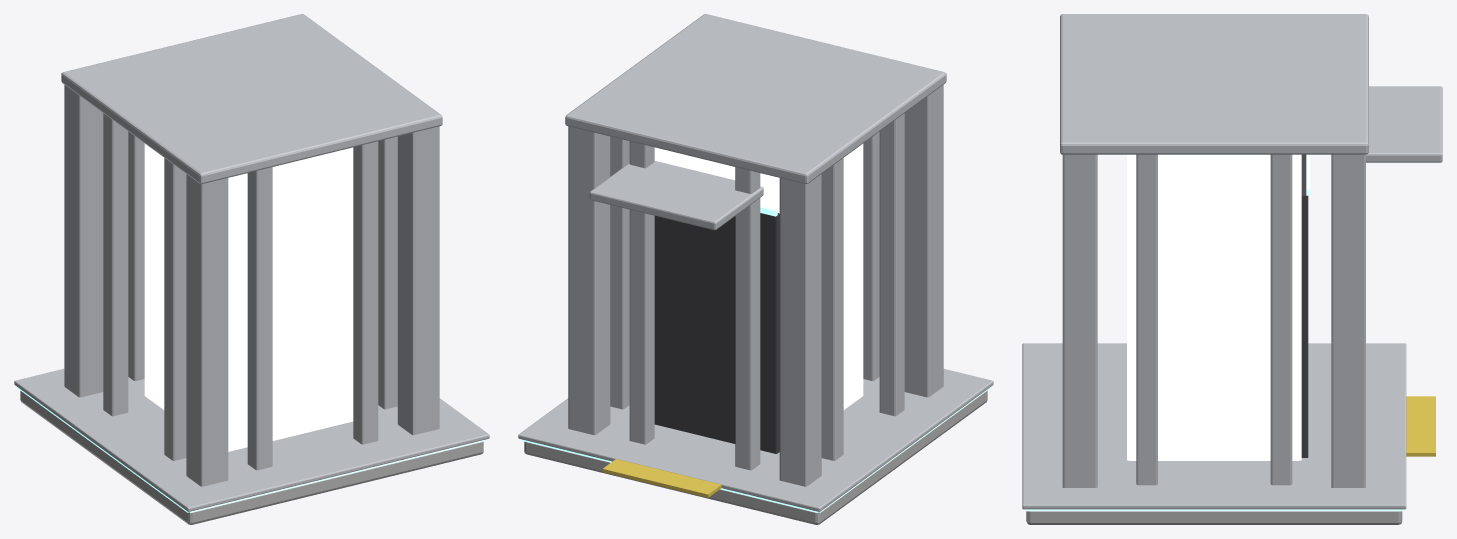
Rendered from base_2x2_office.glb.
3 renders of one model, left to right at view 1: azimuth 30°, elevation 25°; view 2: azimuth 150°, elevation 25°; view 3: azimuth 270°, elevation 25°, orthographic. The views are drawn at different scales.
Visible parts, largest first — view 1: int_columns, ext_ledge, ext_lobby, int_slab_edge, int_slab, ext_base_glow; view 2: int_columns, ext_ledge, ext_entrance, int_slab_edge, ext_lobby, ext_canopy, int_slab, ext_hazard, ext_base_glow; view 3: ext_ledge, ext_lobby, int_columns, int_slab_edge, ext_canopy, int_slab, ext_entrance, ext_hazard, ext_base_glow.
Boxes of the visible parts, box(x1,y1,x2,y2) form: int_columns: box(64, 85, 439, 486); ext_ledge: box(61, 14, 442, 184); ext_lobby: box(144, 143, 353, 451); int_slab_edge: box(14, 369, 489, 511); int_slab: box(20, 390, 483, 524); ext_base_glow: box(16, 387, 486, 512); int_columns: box(568, 85, 943, 486); ext_ledge: box(565, 14, 946, 184); ext_entrance: box(654, 213, 779, 453); int_slab_edge: box(518, 369, 993, 511); ext_lobby: box(654, 143, 863, 409); ext_canopy: box(589, 161, 763, 230); int_slab: box(524, 390, 987, 524); ext_hazard: box(602, 459, 721, 497); ext_base_glow: box(521, 387, 991, 512); ext_ledge: box(1060, 14, 1368, 154); ext_lobby: box(1127, 154, 1301, 460); int_columns: box(1062, 154, 1365, 487); int_slab_edge: box(1022, 343, 1406, 509); ext_canopy: box(1366, 86, 1442, 162); int_slab: box(1026, 511, 1402, 524); ext_entrance: box(1301, 154, 1308, 457); ext_hazard: box(1406, 396, 1435, 456); ext_base_glow: box(1023, 509, 1404, 511).
Bounding box in the file's own units: 2.86 × 3.03 × 3.13.
